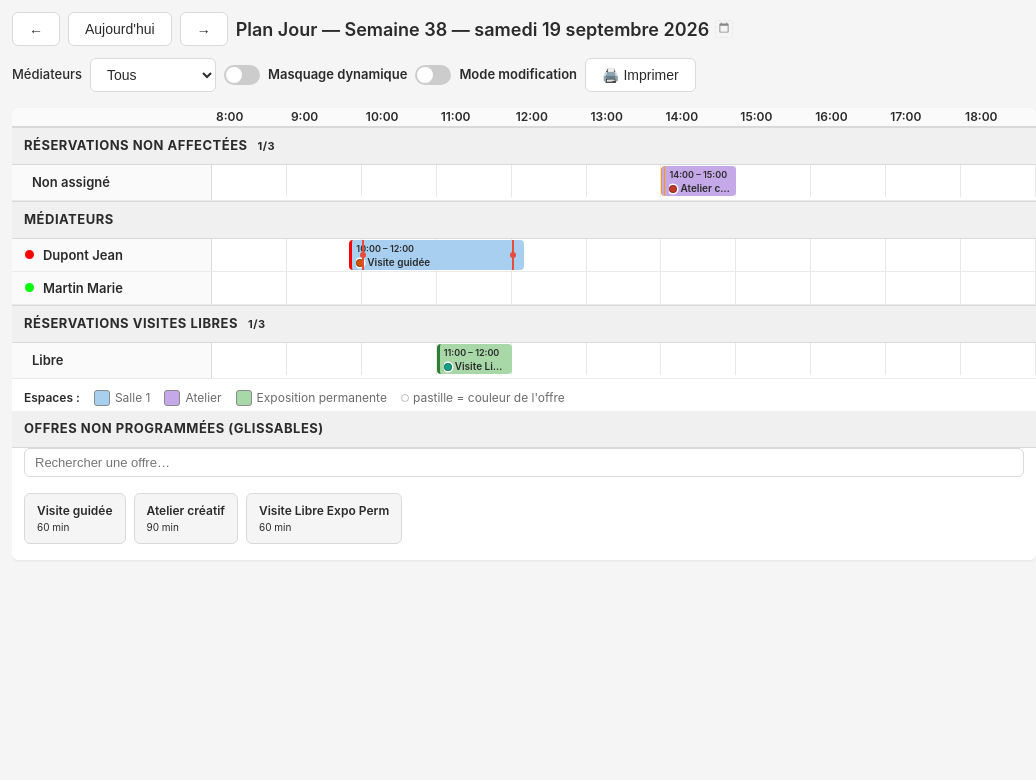
Test: DailyView › mediator filter › should show only occupied mediators when "Occupés" is selected
Step 1. Select "Occupés" in the dropdown with id "daily-mediator-filter" → (153, 75), box [90,58,216,92]
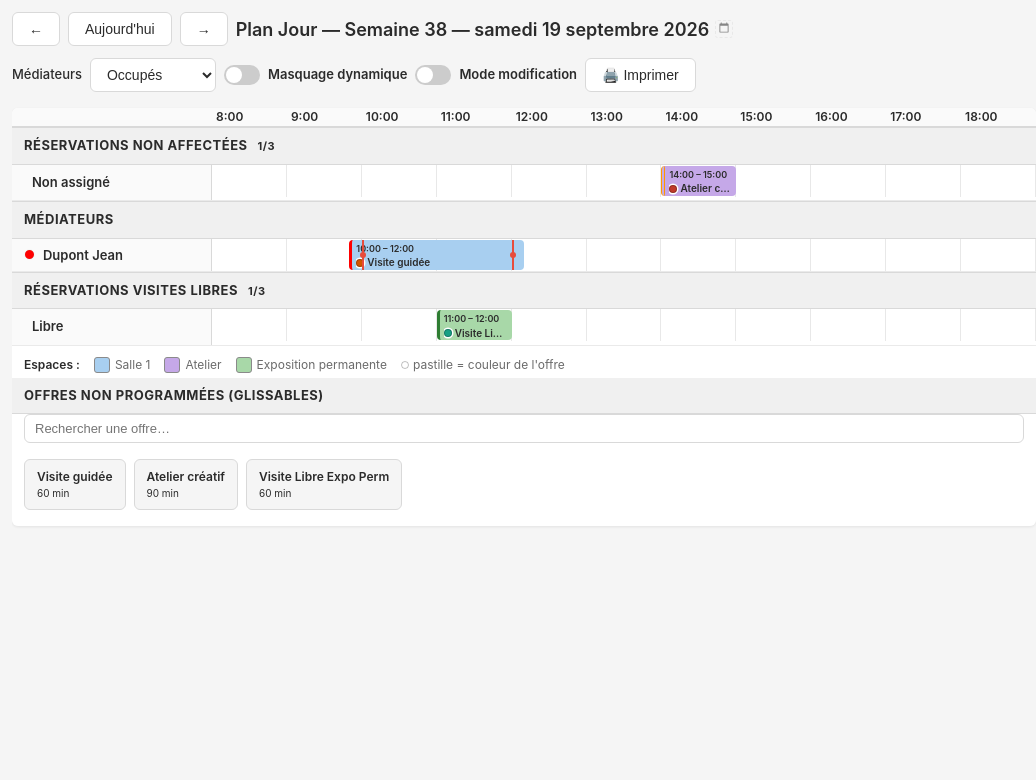
Expected: the element with class "daily-mediator-row" shows "Dupont Jean", [12,238,1035,272]
Now the number of elements with class "daily-mediator-row" is 1, box [12,238,1035,272]
